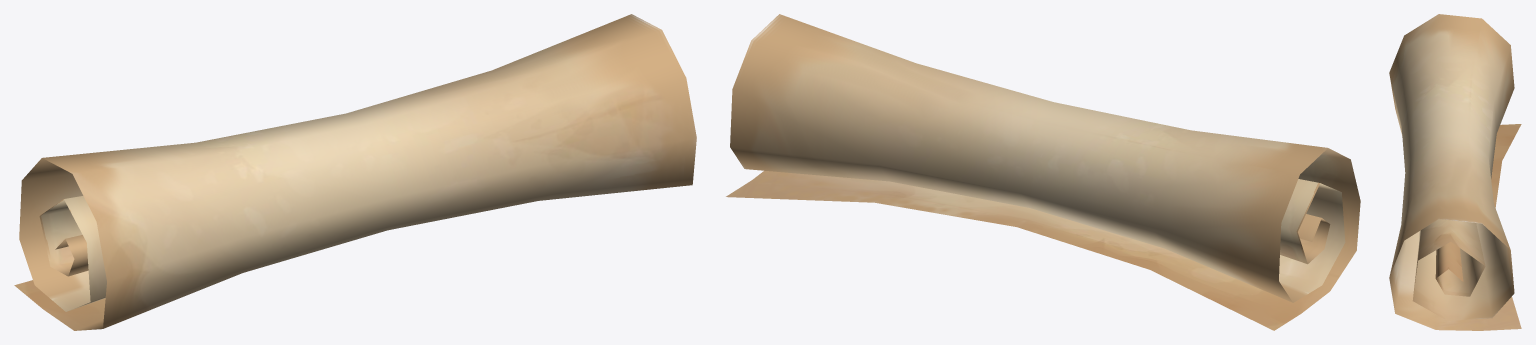
Rendered from paper.fbx.
3 views of the same model, side by side, from view 1: azimuth 30°, elevation 25°; view 2: azimuth 150°, elevation 25°; view 3: azimuth 270°, elevation 25° (orthographic). The views are drawn at different scales.
Parts seen in each view (by area): view 1: SM_Papyrus; view 2: SM_Papyrus; view 3: SM_Papyrus.
Part boxes in pixels (x1,y1,x2,y2): SM_Papyrus: (14,14,696,330); SM_Papyrus: (726,14,1360,330); SM_Papyrus: (1389,14,1521,330).
Bounding box in the file's own units: 45.02 × 11.45 × 12.29.
